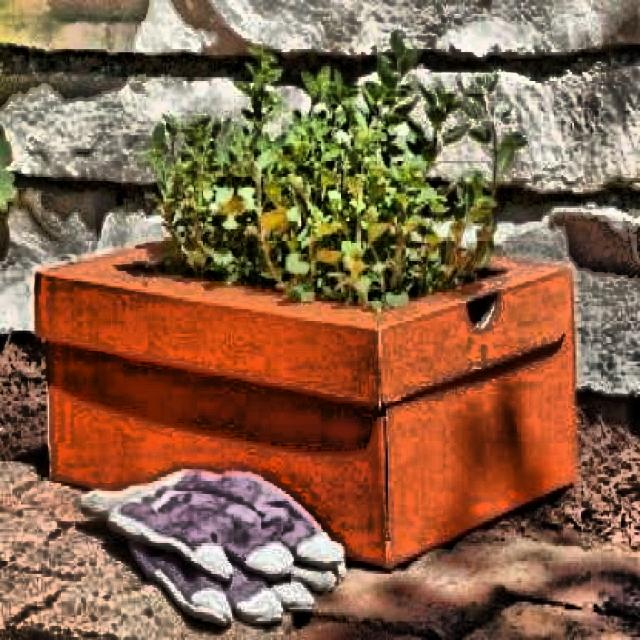Cardbox: (0, 206, 596, 597)
